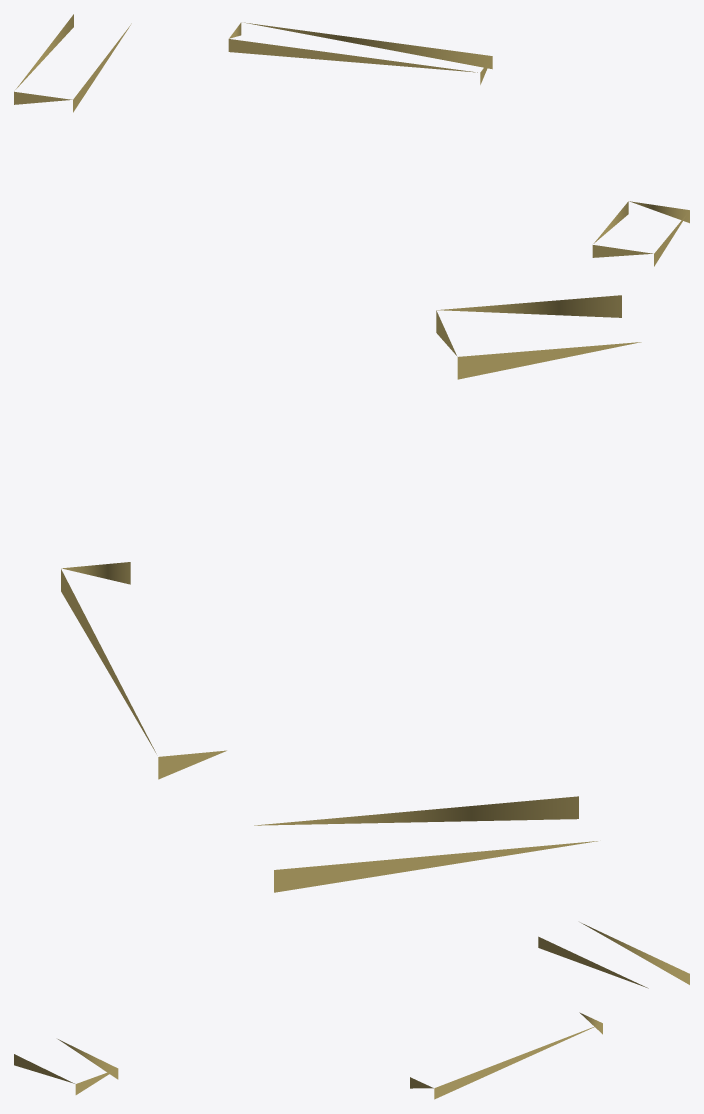
3 views of the same model, one above another, from view 1: azimuth 30°, elevation 25°; view 2: azimuth 150°, elevation 25°; view 3: azimuth 270°, elevation 25° (orthographic). The views are drawn at different scales.
Size of the model in its own units: 78.56 by 2.5 by 134.
